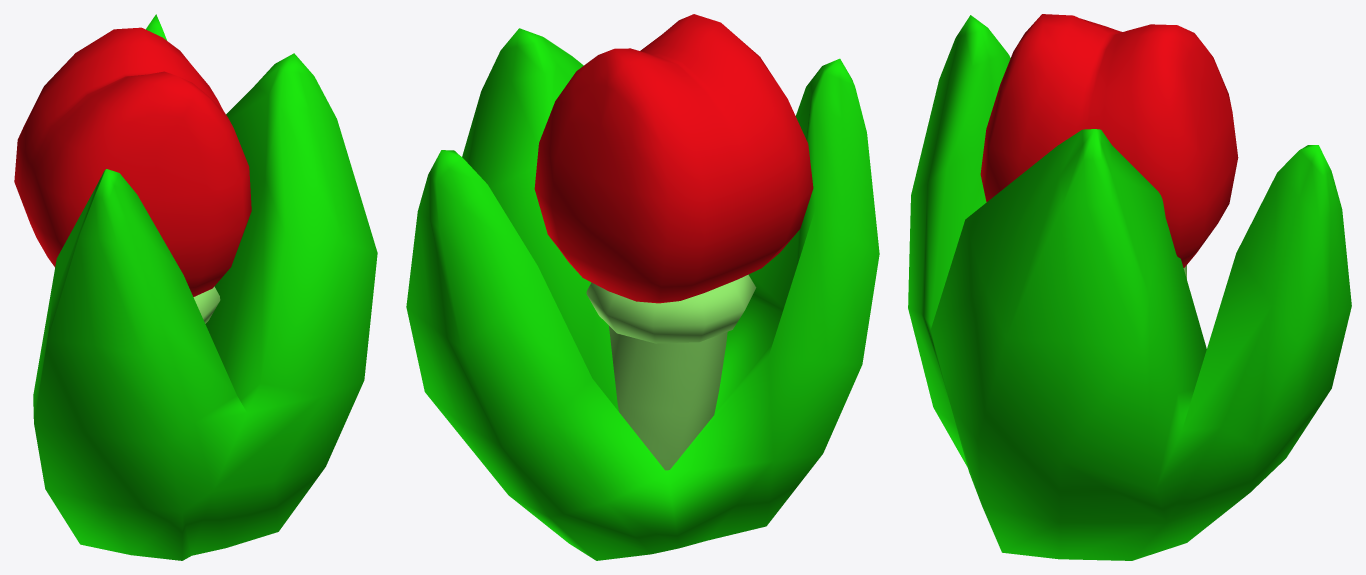
Rendered from Inflate.fbx.
The picture shows the model from 3 angles, left to right: view 1: azimuth 30°, elevation 25°; view 2: azimuth 150°, elevation 25°; view 3: azimuth 270°, elevation 25°; orthographic projection. The views are drawn at different scales.
Parts seen in each view (by area): view 1: Cube.001; view 2: Cube.001; view 3: Cube.001.
Part boxes in pixels (bbox=[...]): Cube.001: bbox=[14, 14, 377, 560]; Cube.001: bbox=[406, 14, 879, 560]; Cube.001: bbox=[908, 14, 1351, 560].
Size of the model in its own units: 629 by 819 by 661.
